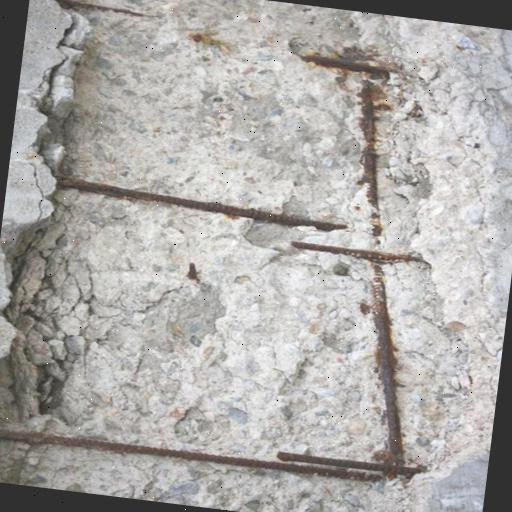spalling: (0, 0, 428, 504)
